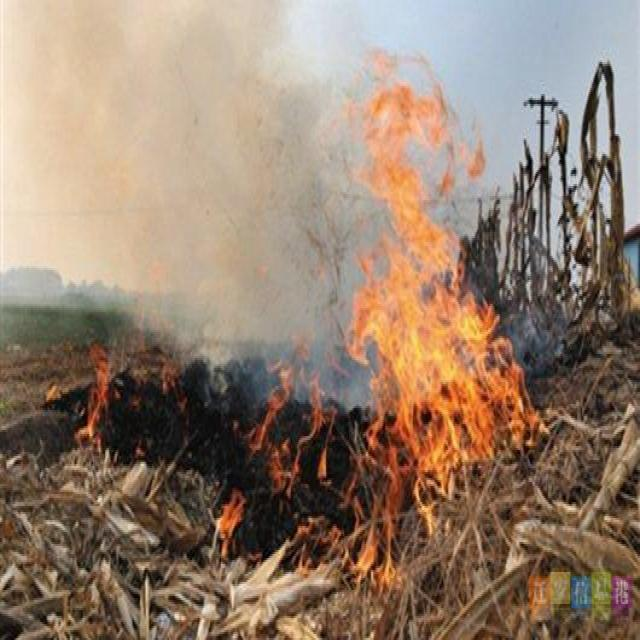fire: (326, 33, 552, 535), (258, 343, 327, 492), (298, 495, 402, 587), (73, 347, 113, 451), (214, 485, 242, 553)
other: (522, 559, 636, 621)
smoke: (34, 12, 151, 223), (134, 17, 226, 281), (218, 59, 308, 307)
